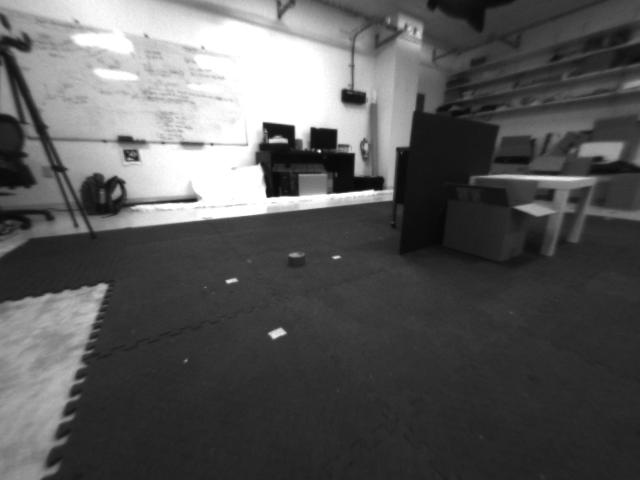dogtoy: (280, 240, 321, 278)
